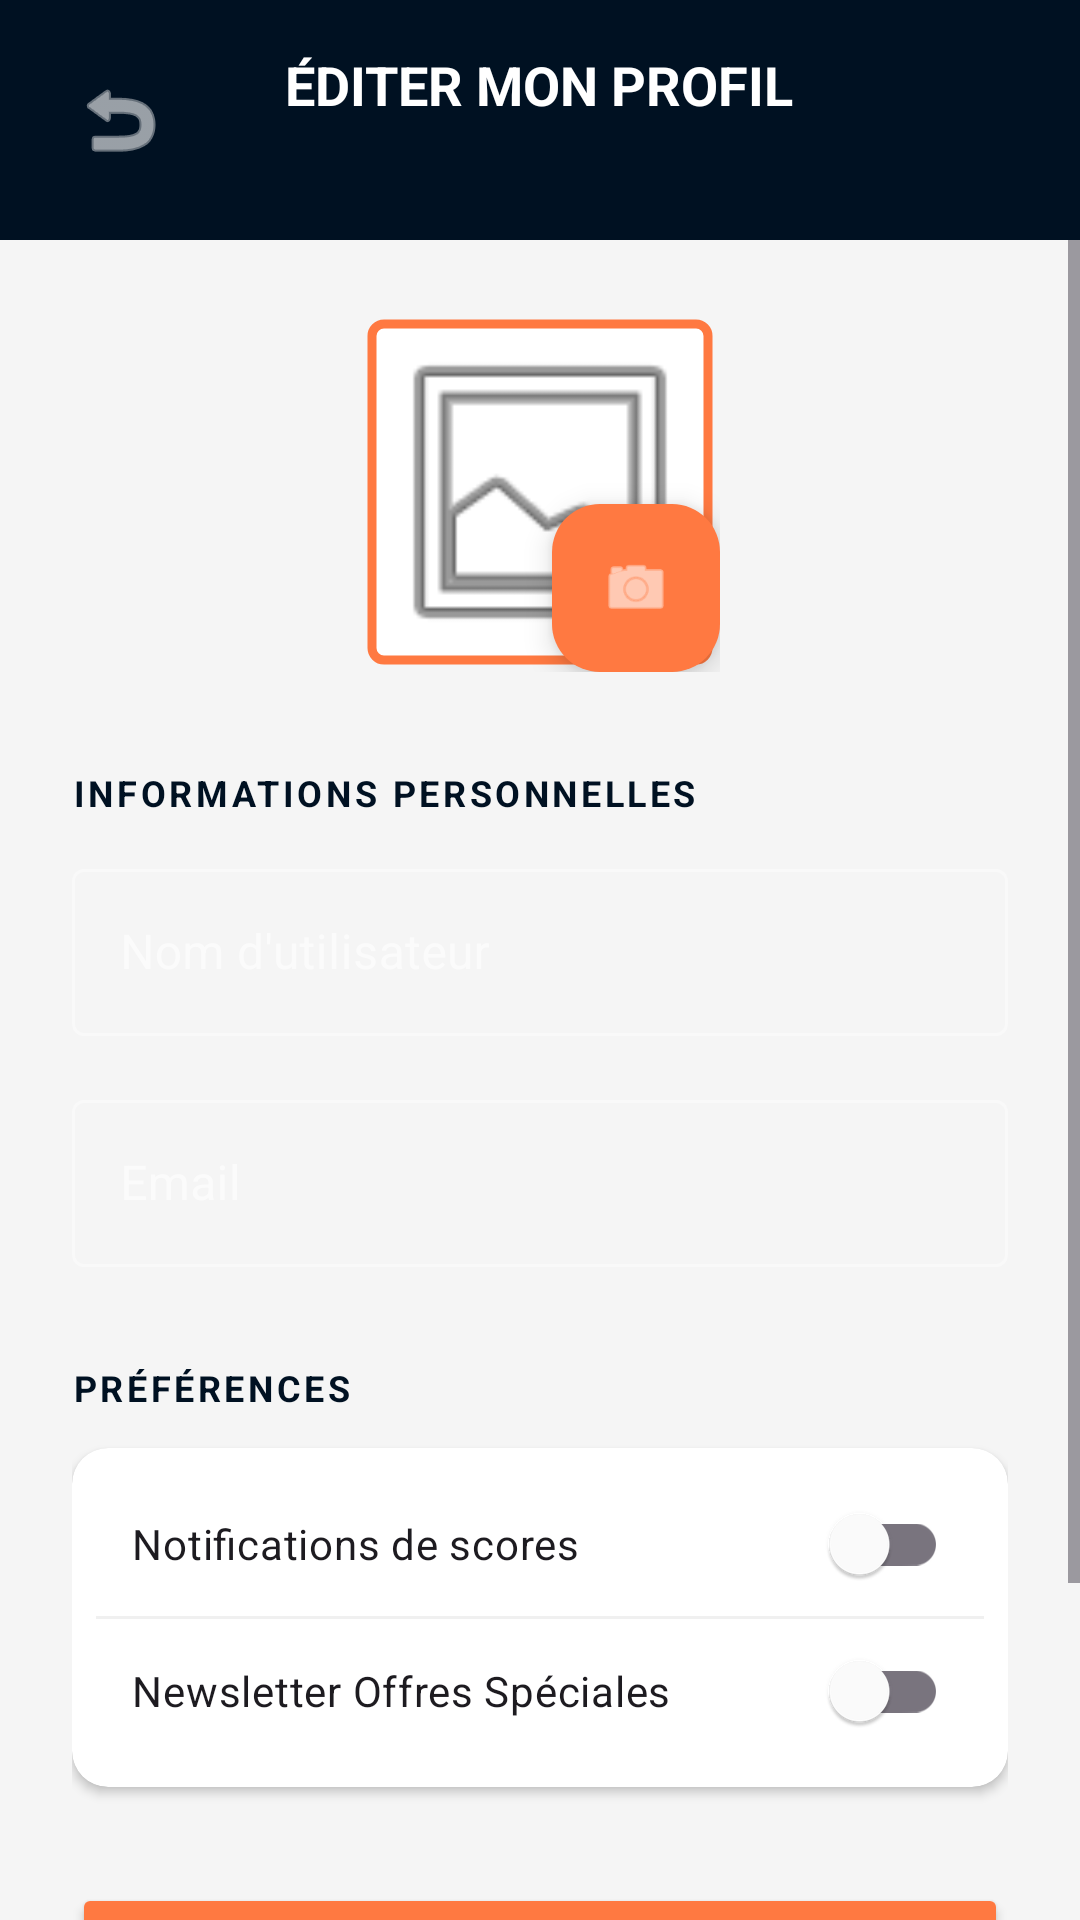

Where to tap for icons on this 1080 x 1920 app screen, as [x,y]:
Retour: [121,120]
